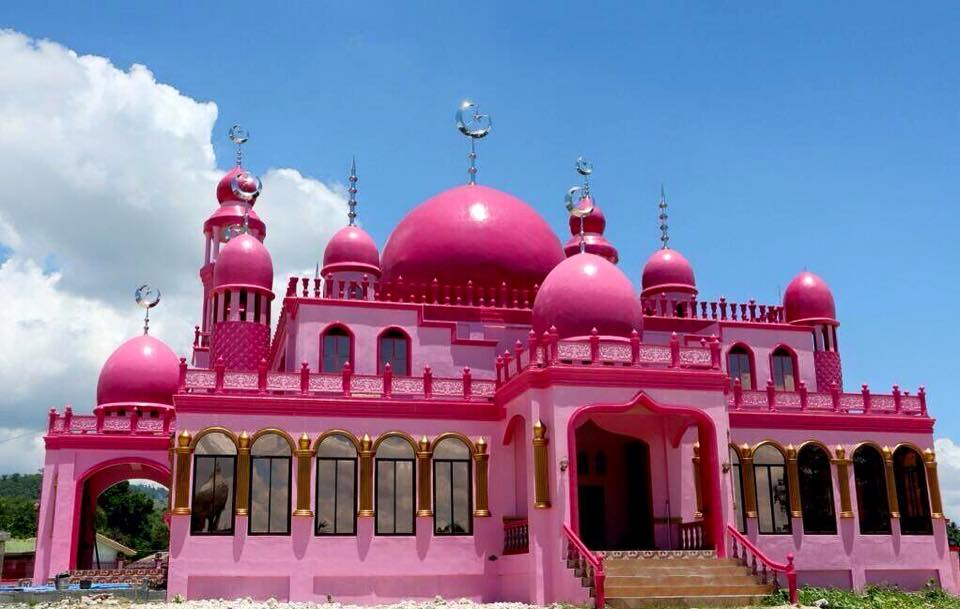Mosque: (56, 105, 946, 606)
